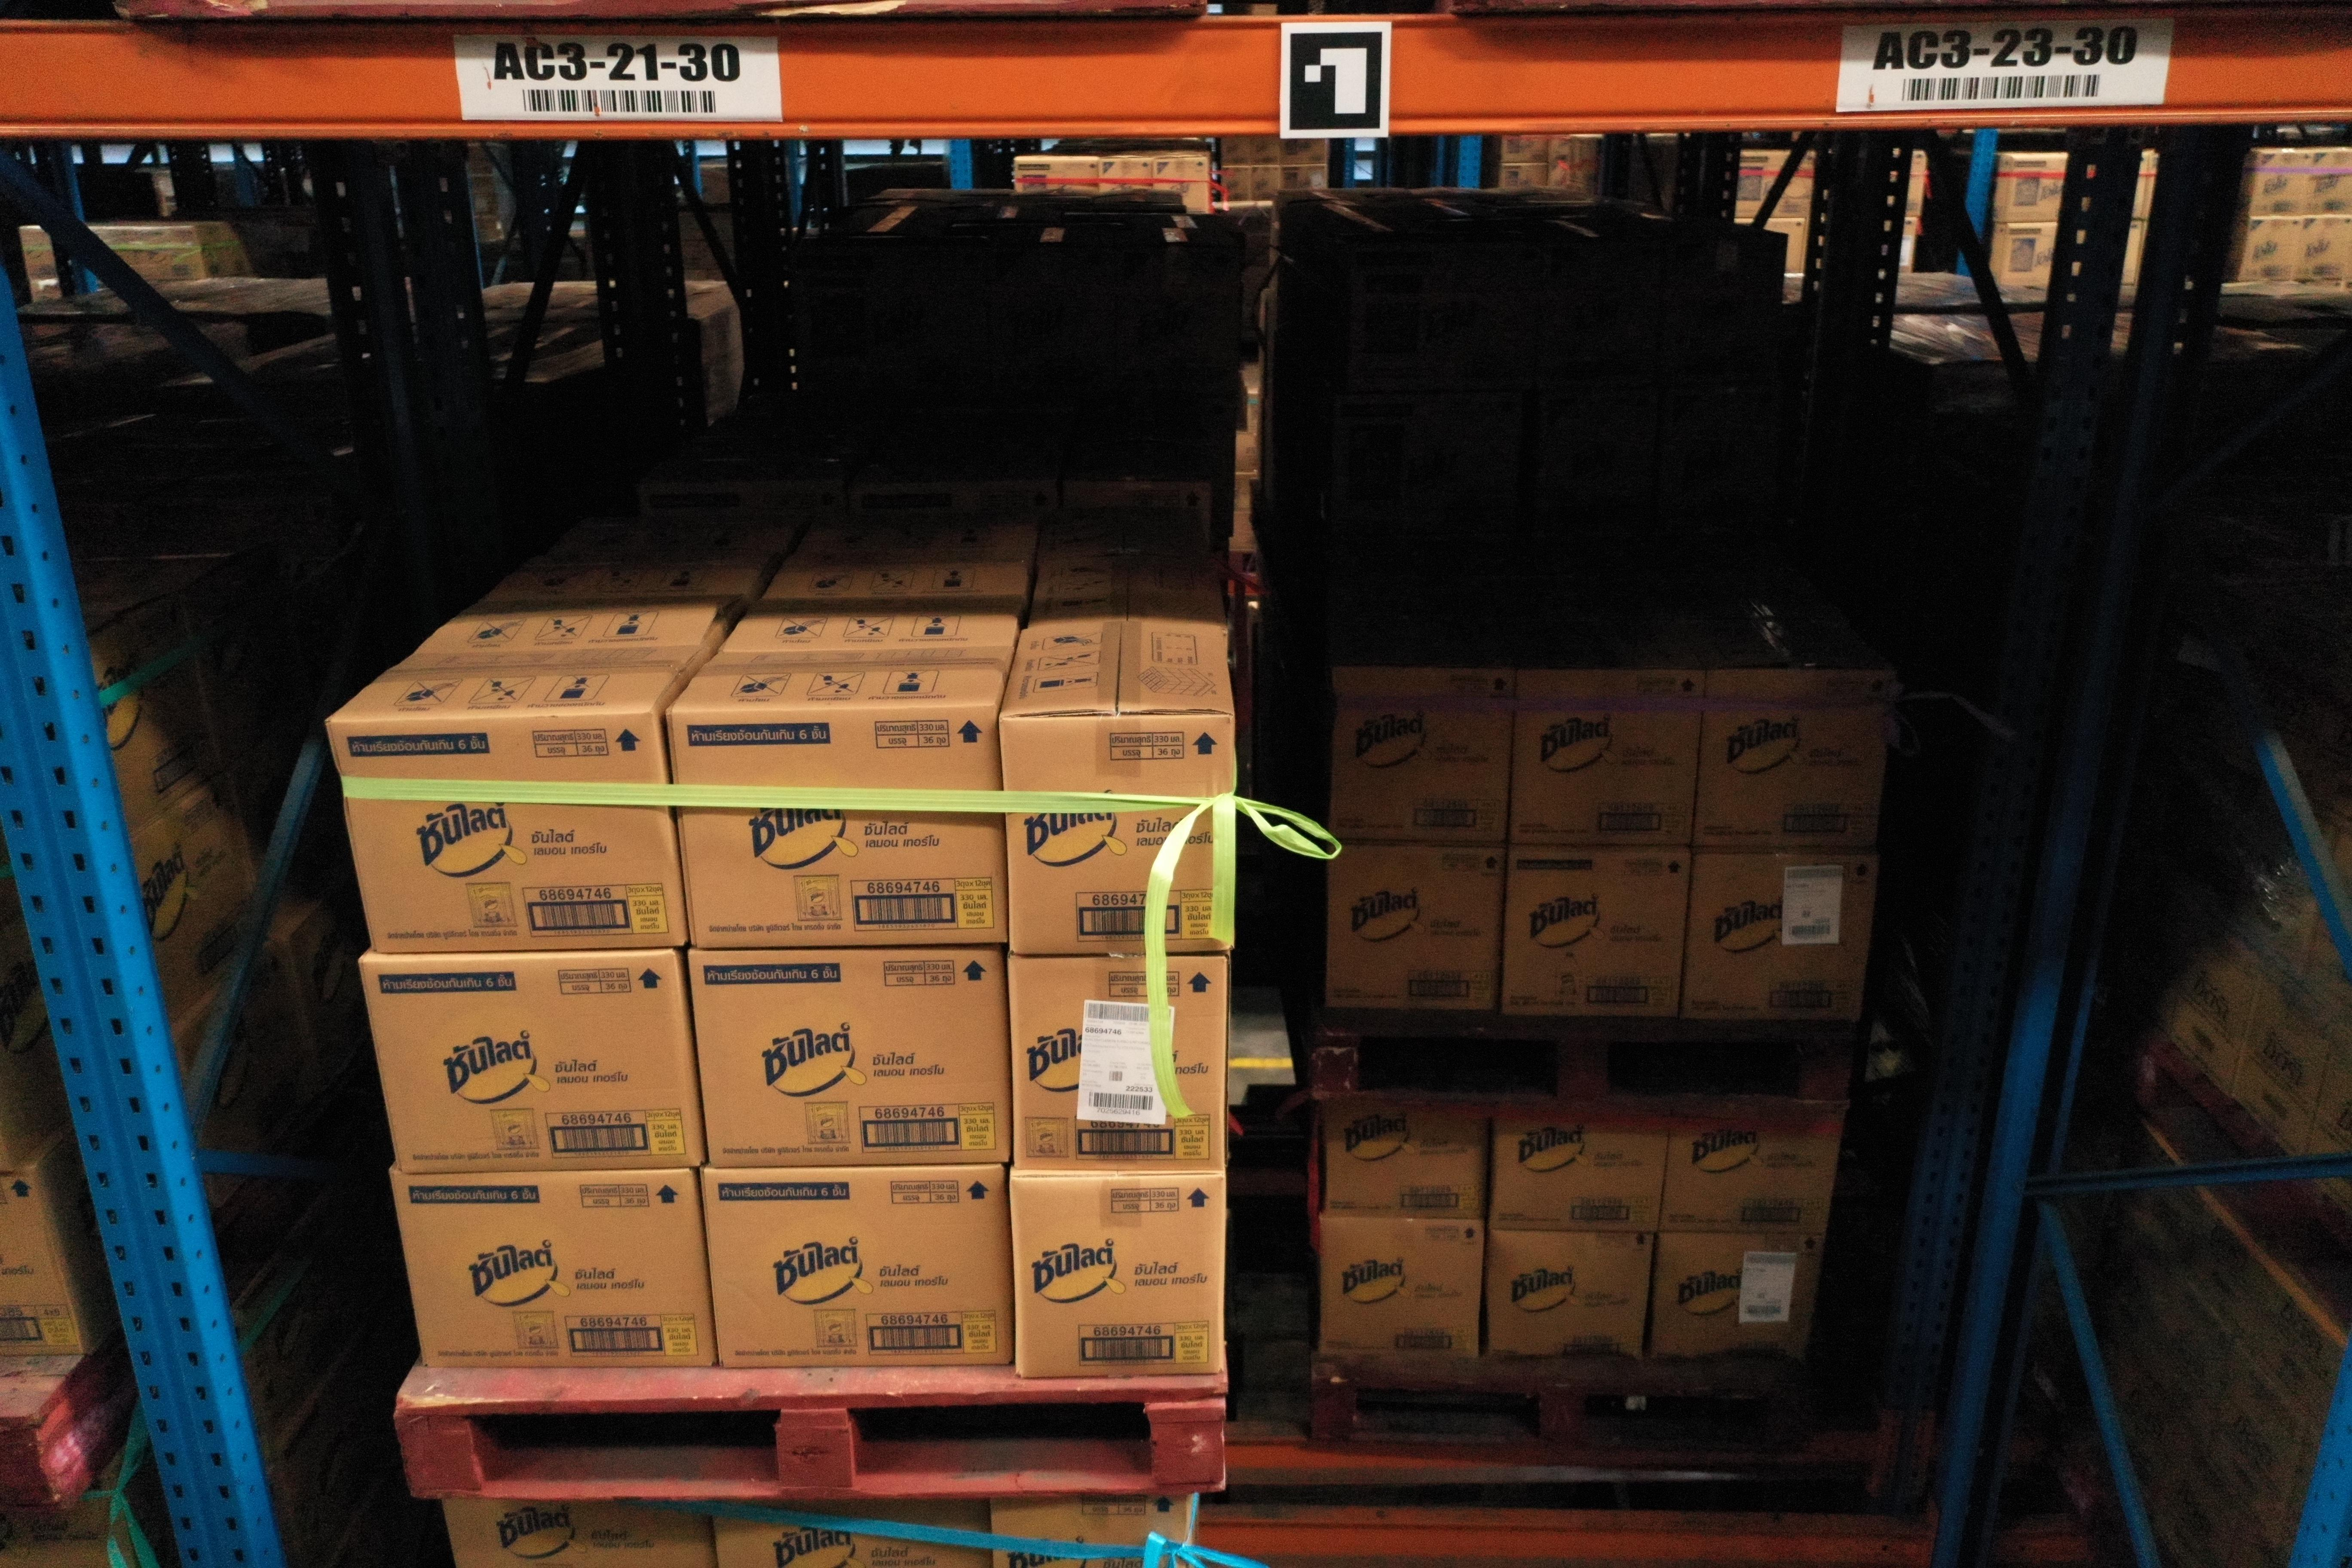-: (329, 710, 691, 954), (668, 707, 1008, 948), (359, 954, 705, 1176), (686, 948, 1010, 1167), (395, 1167, 717, 1367), (703, 1167, 1017, 1367), (1001, 714, 1234, 959), (1006, 959, 1228, 1174), (1010, 1178, 1227, 1374), (709, 1501, 992, 1568), (443, 1500, 716, 1568), (989, 1501, 1188, 1568)
box: (1696, 672, 1895, 859), (1510, 670, 1706, 856), (1498, 847, 1694, 1018), (1680, 854, 1876, 1025), (1330, 667, 1514, 845), (1323, 842, 1507, 1011), (1647, 1235, 1829, 1367), (1319, 1216, 1487, 1356), (1482, 1228, 1655, 1363), (1489, 1115, 1671, 1235), (1655, 1123, 1844, 1237), (1323, 1111, 1489, 1218)
